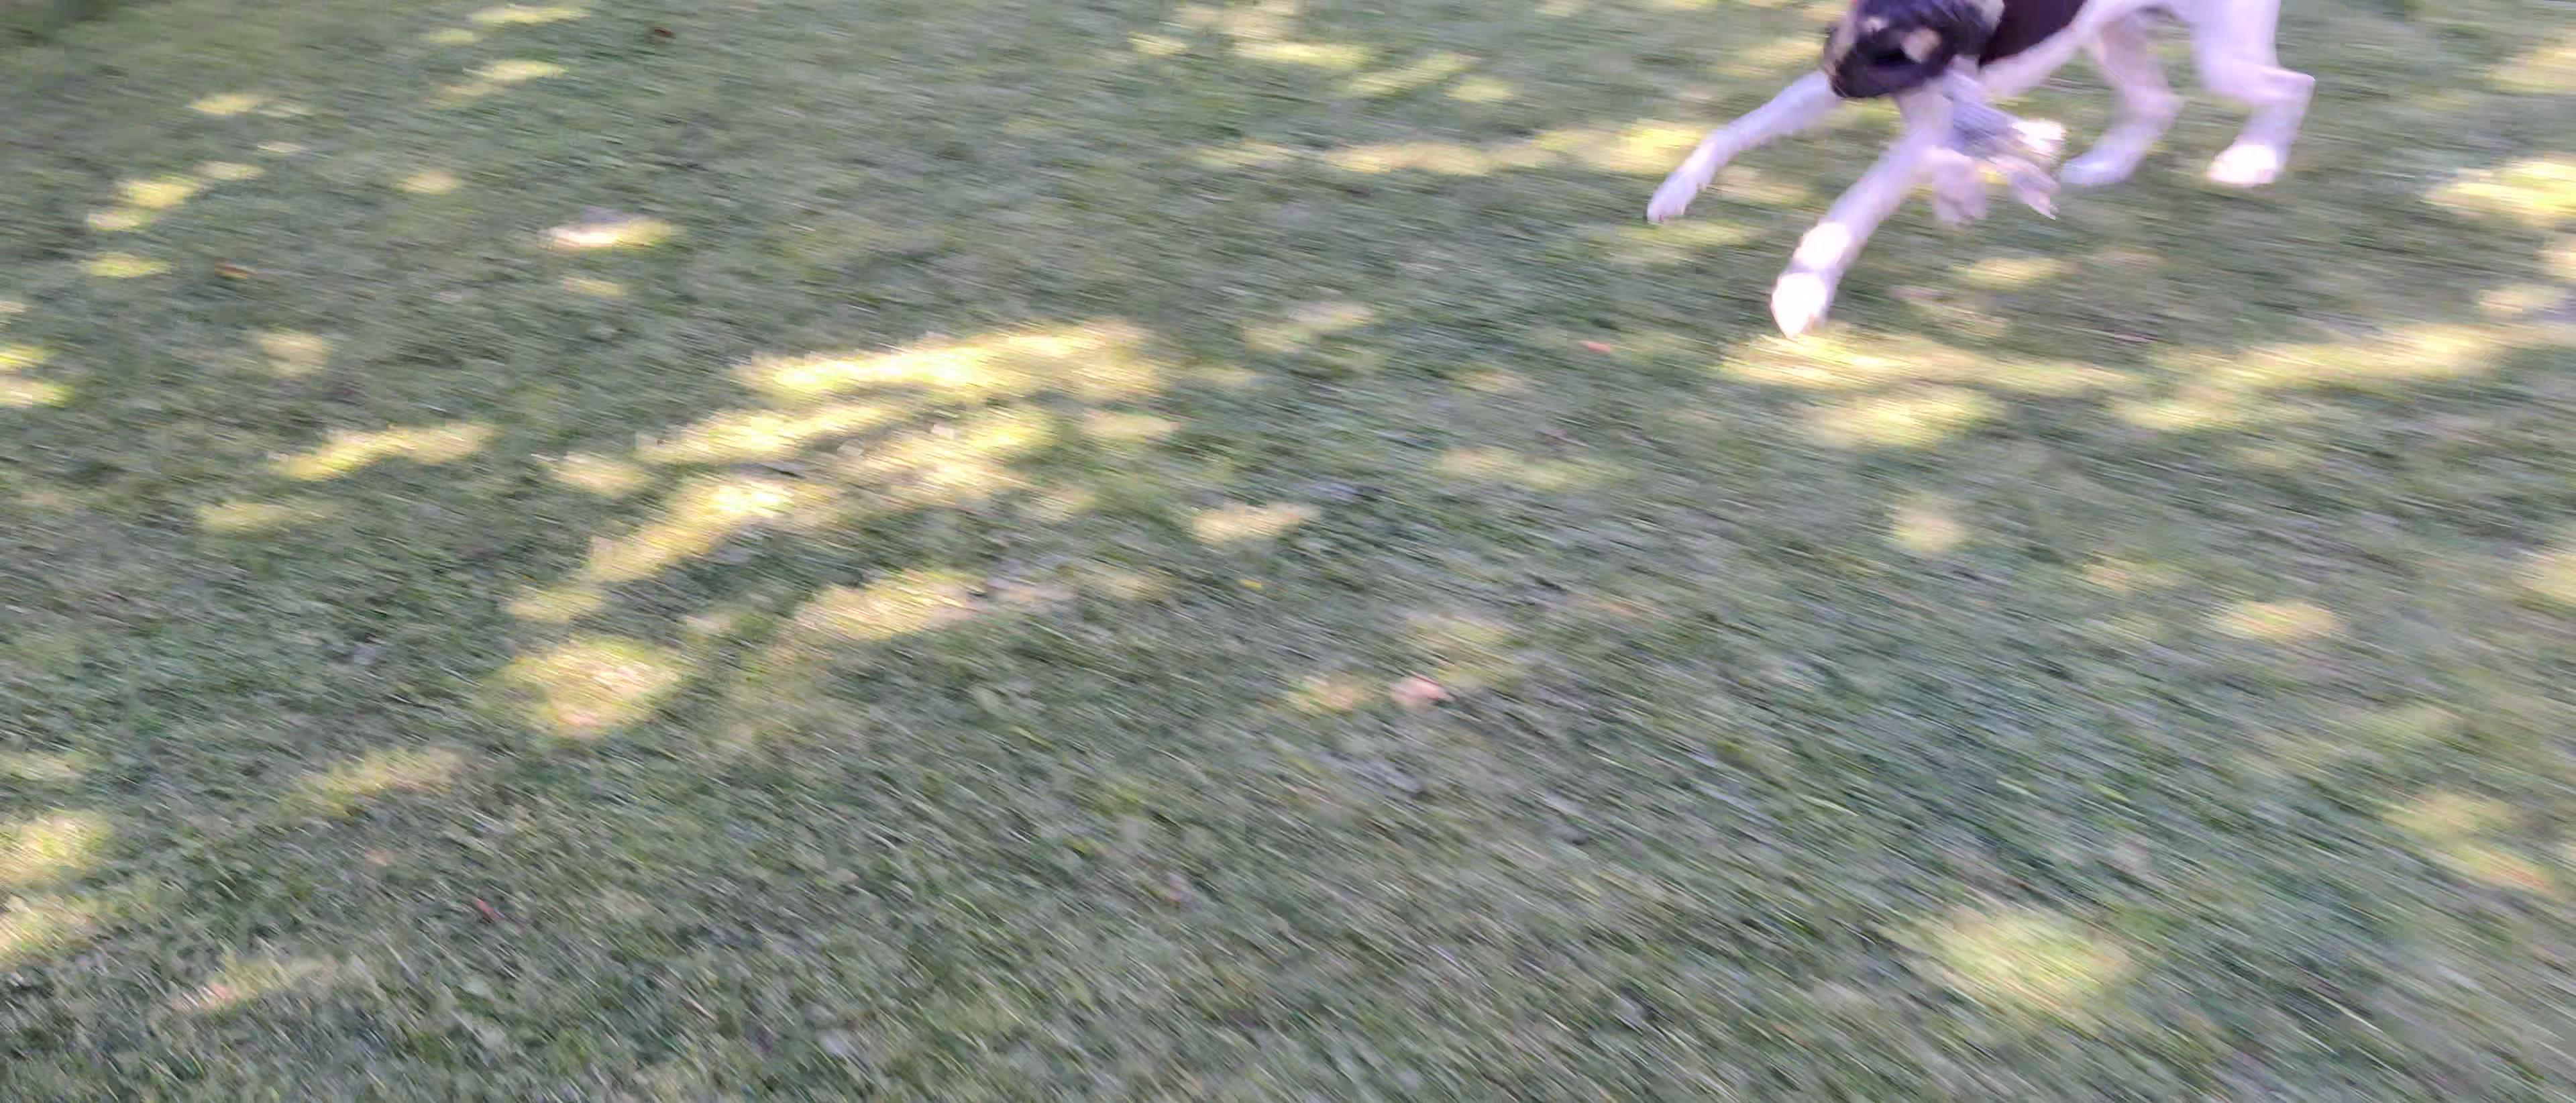Dog: (1618, 0, 2338, 339)
